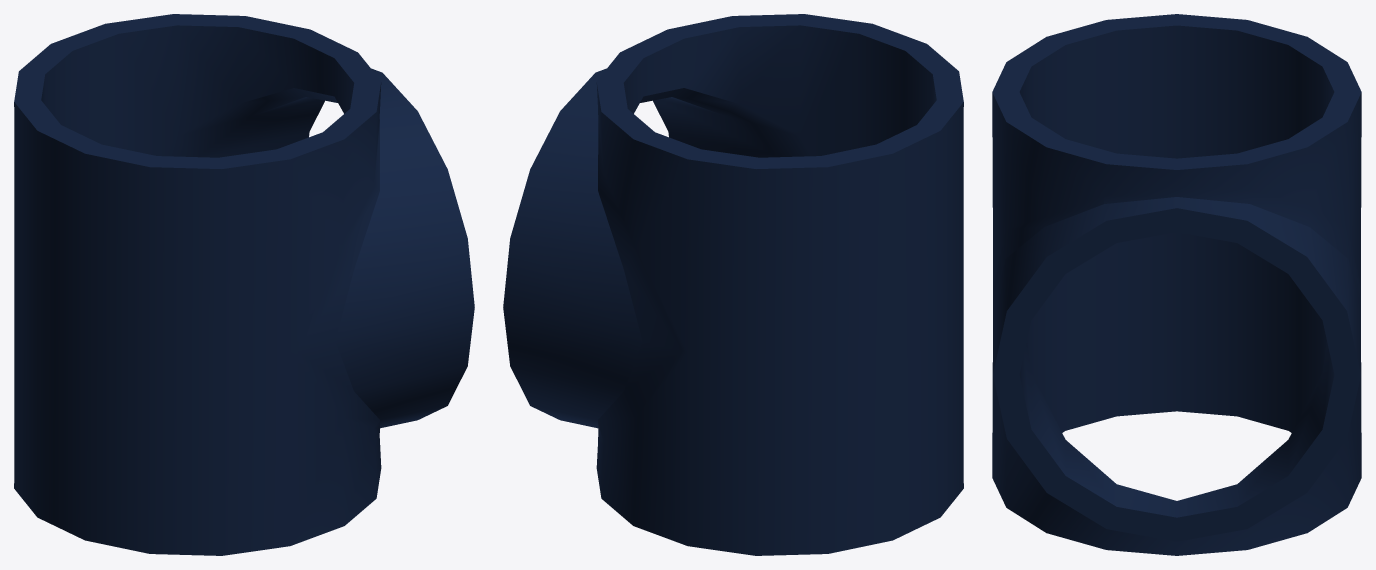
Rendered from Pipe_T.fbx.
3 renders of one model, left to right at view 1: azimuth 30°, elevation 25°; view 2: azimuth 150°, elevation 25°; view 3: azimuth 270°, elevation 25°, orthographic.
Visible parts, largest first — view 1: Pipe_T; view 2: Pipe_T; view 3: Pipe_T.
Boxes of the visible parts, x1,y1,x2,y2 form: Pipe_T: (14, 14, 474, 555); Pipe_T: (503, 14, 963, 555); Pipe_T: (992, 14, 1361, 555).
Bounding box in the file's own units: 187 × 200 × 174.
